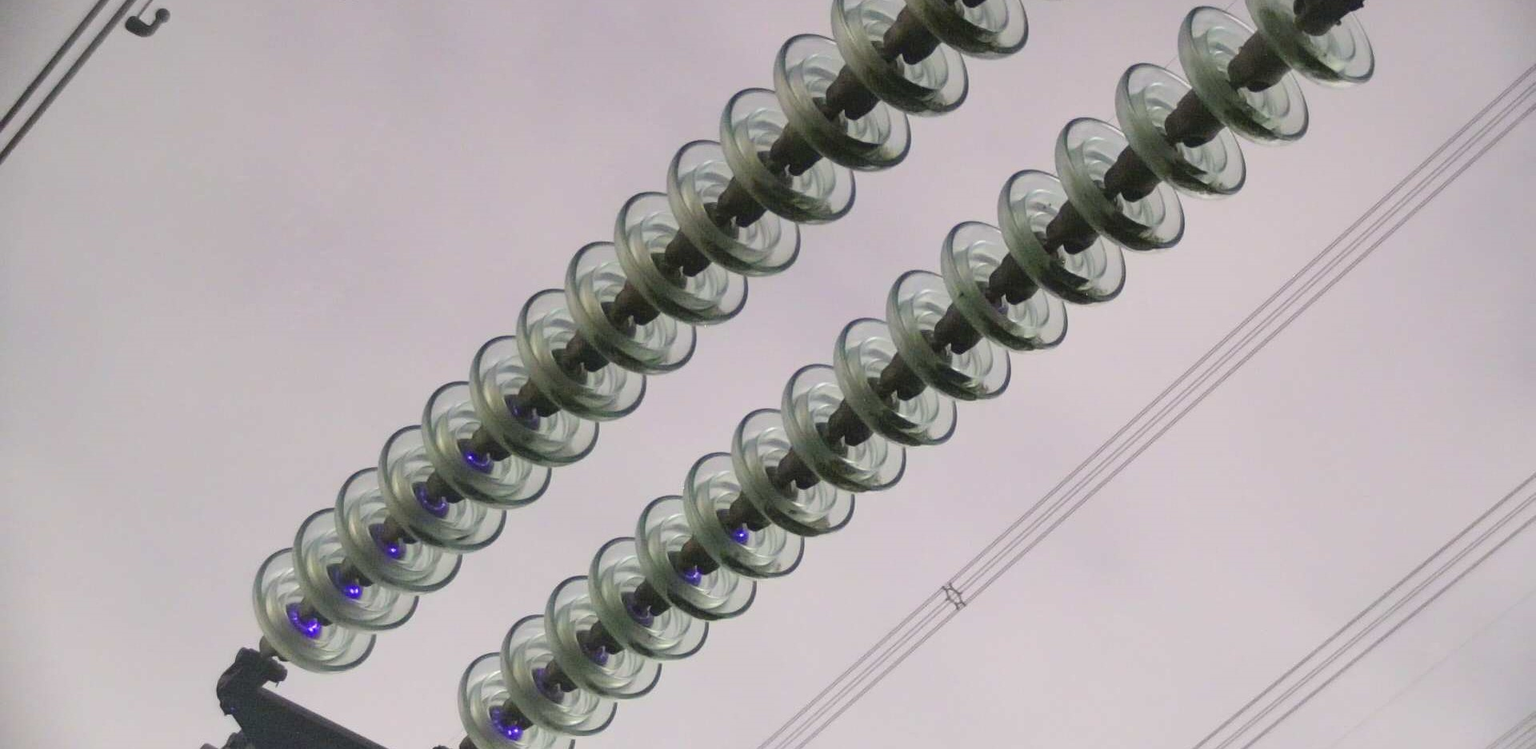绝缘子污闪: (286, 607, 321, 638), (491, 709, 522, 741), (416, 484, 446, 512), (463, 449, 493, 470), (582, 643, 608, 667), (626, 604, 653, 626), (676, 564, 702, 586), (534, 667, 548, 695), (730, 527, 748, 545), (344, 583, 361, 598), (386, 544, 399, 558), (512, 402, 521, 417)
